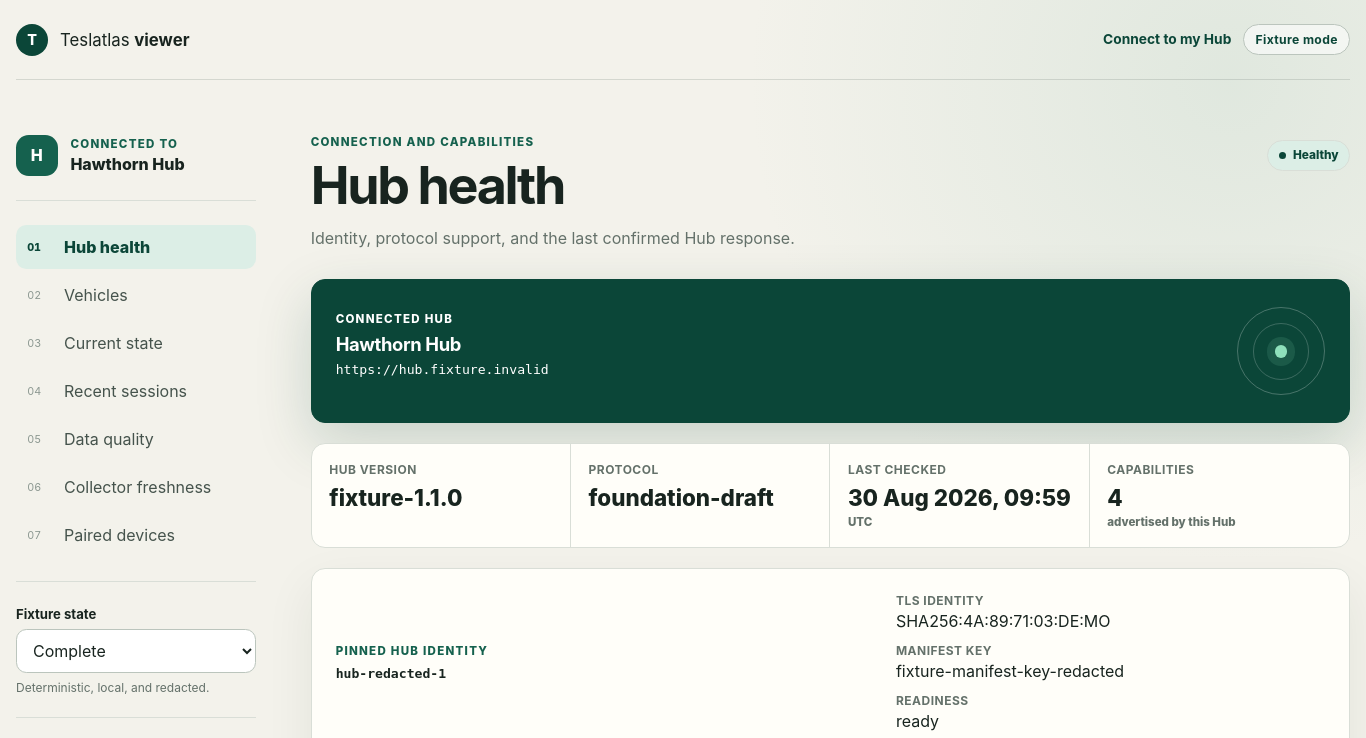
reference views › separates unsupported, changed, and terminal history states
Click the button "04 Recent sessions": coordinates (136, 391) [16,369,256,413]
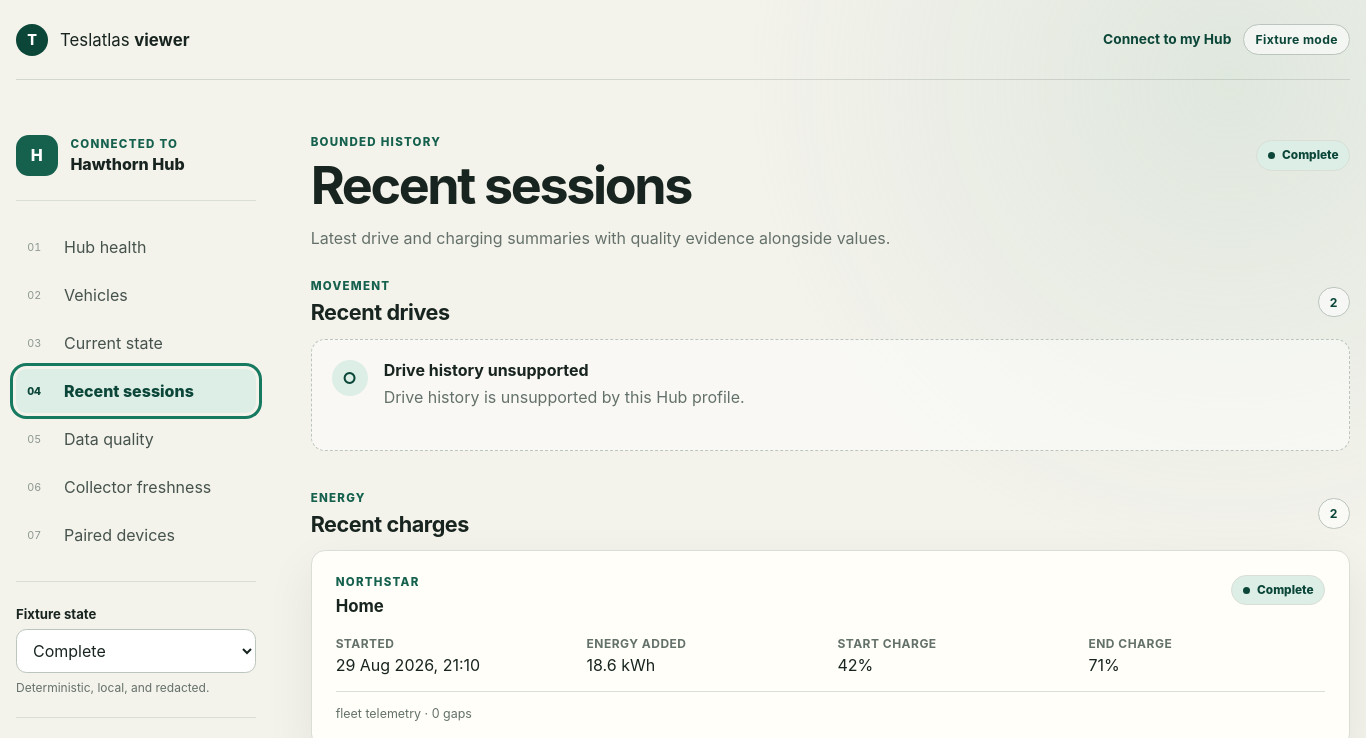
Check: the text "Drive history is unsupported by this Hub profile." is shown, box [384,385,745,409]
